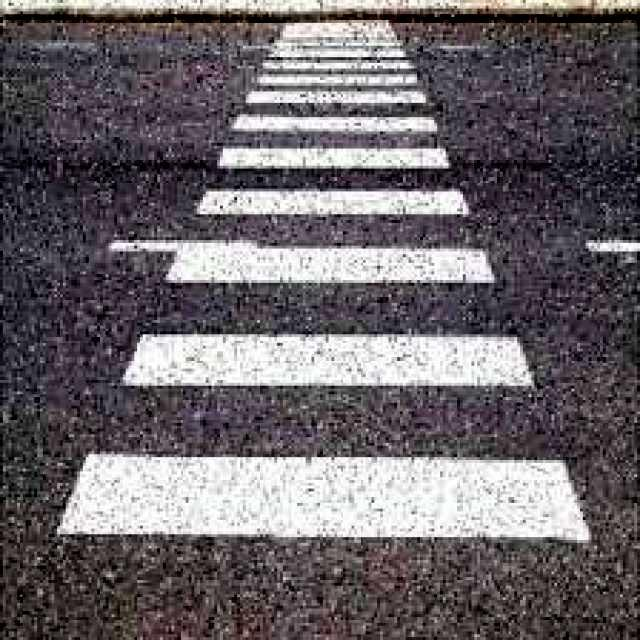crosswalk: (8, 7, 624, 600)
